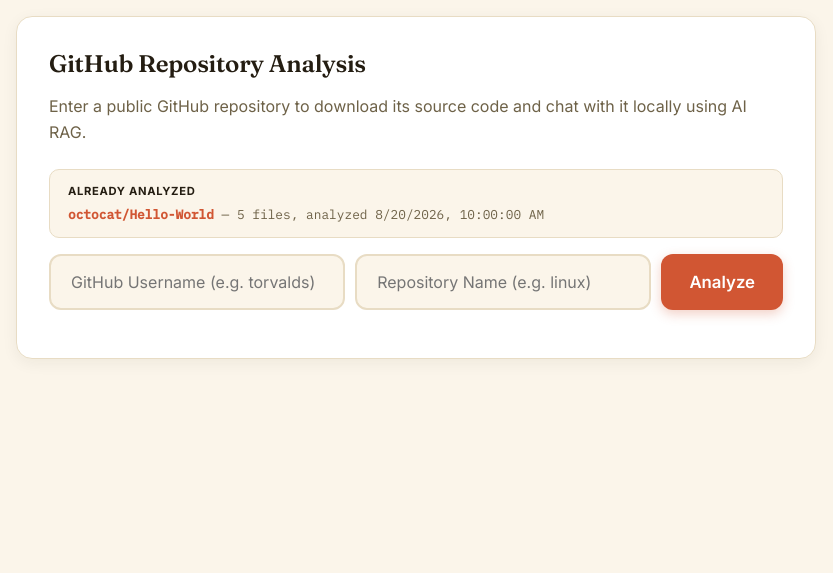
Test: RepoAnalysisPage › reuses an already-analyzed repo instead of re-downloading it
Expected: the link "octocat/Hello-World" is shown, x1=68 y1=206 x2=214 y2=223
Type "octocat" into the field with placeholder "GitHub Username (e.g. torvalds)" at [197, 282], box x1=49 y1=254 x2=345 y2=310
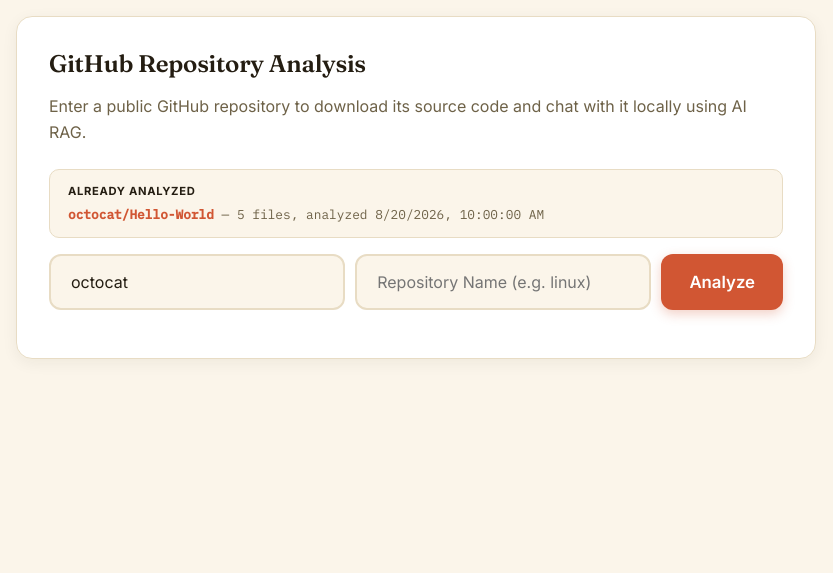
Type "Hello-World" into the field with placeholder "Repository Name (e.g. linux)" at [503, 282], box x1=355 y1=254 x2=651 y2=310
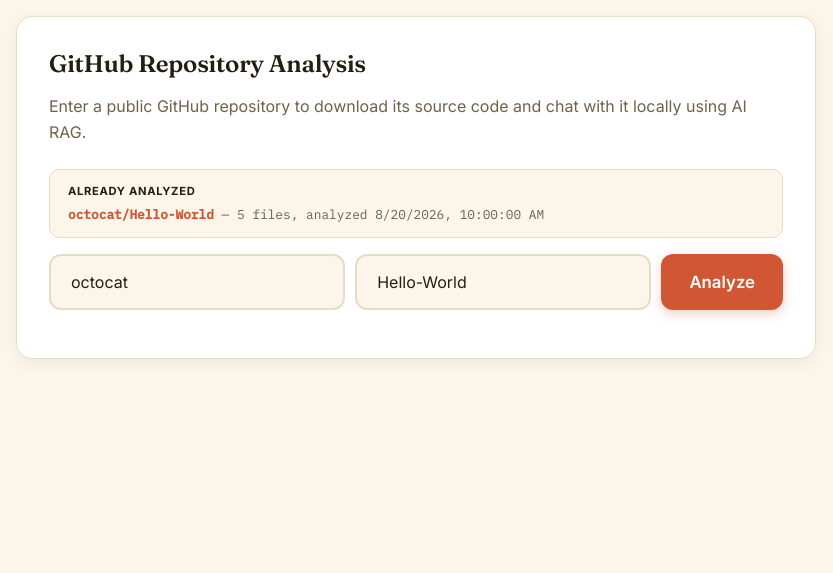
Click the button "Analyze" at [722, 282], box x1=661 y1=254 x2=783 y2=310
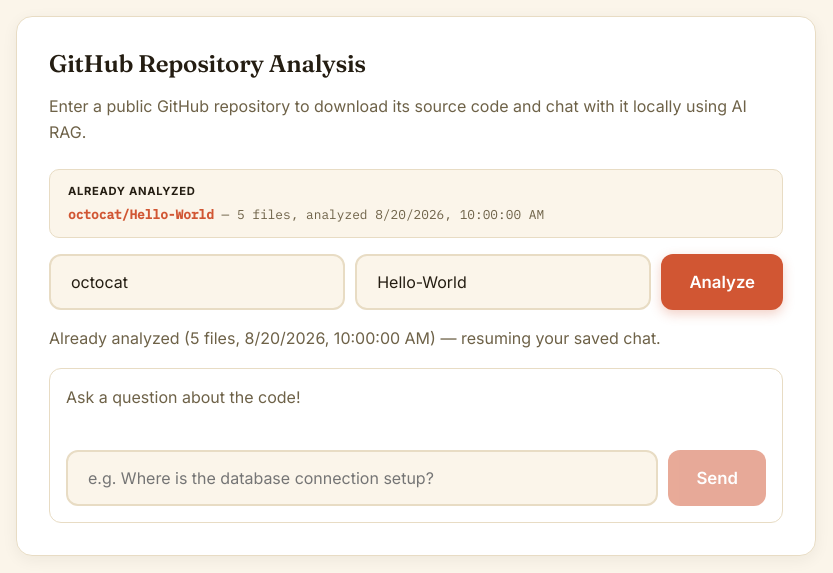
Expected: the text "Already analyzed (" is shown, x1=49 y1=328 x2=661 y2=348
Expected: the text "Ask a question about the code!" is shown, x1=66 y1=387 x2=300 y2=407
